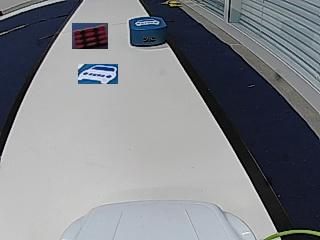safety: (135, 19, 159, 27)
